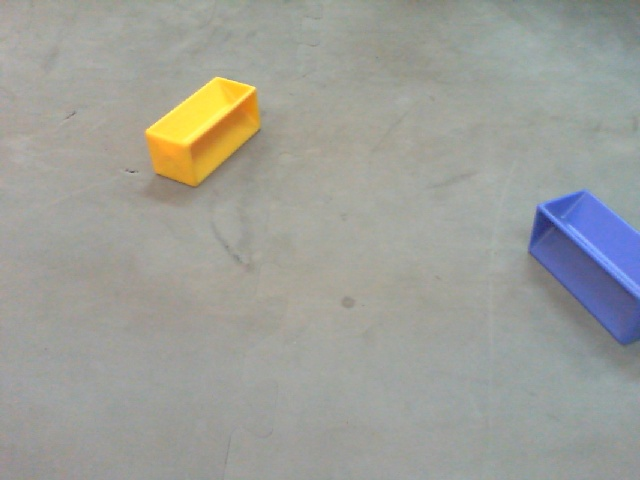BlueSample: (526, 185, 640, 348)
YellowSample: (138, 71, 265, 191)
